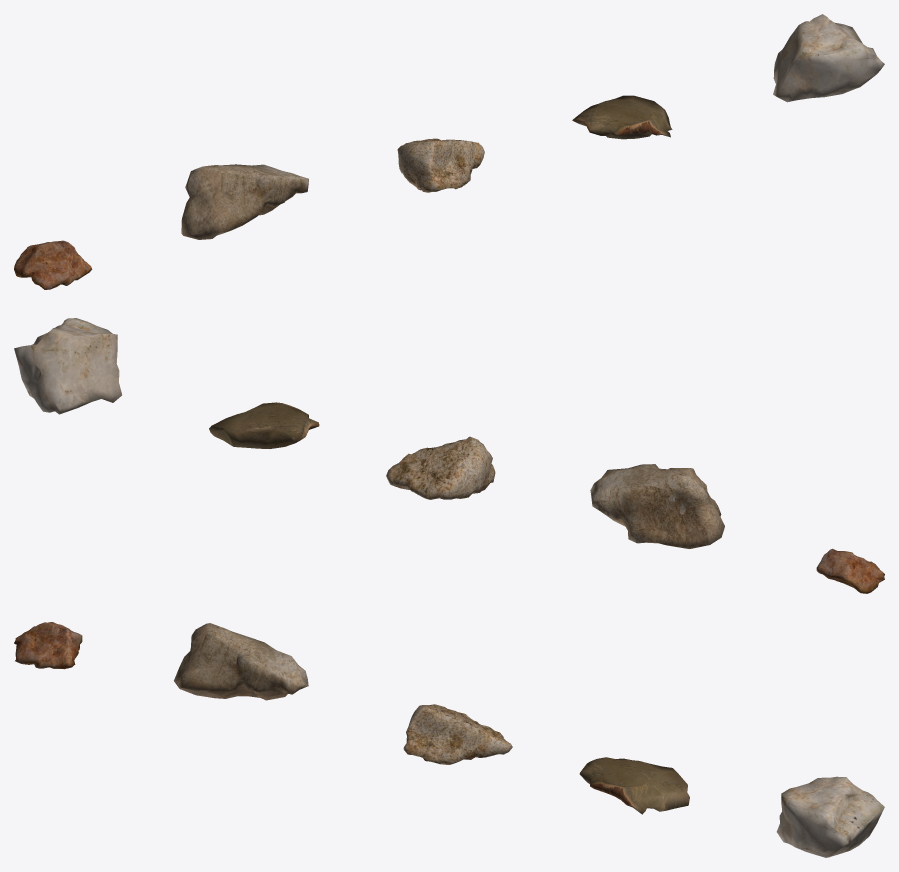
File: namaqualand_stones_01.glb
3 views of the same model, one above another, from view 1: azimuth 30°, elevation 25°; view 2: azimuth 150°, elevation 25°; view 3: azimuth 330°, elevation 25° (orthographic).
Parts seen in each view (by area): view 1: namaqualand_stones_01_e, namaqualand_stones_01_b, namaqualand_stones_01_c, namaqualand_stones_01_d, namaqualand_stones_01_a; view 2: namaqualand_stones_01_b, namaqualand_stones_01_e, namaqualand_stones_01_c, namaqualand_stones_01_d, namaqualand_stones_01_a; view 3: namaqualand_stones_01_b, namaqualand_stones_01_e, namaqualand_stones_01_c, namaqualand_stones_01_d, namaqualand_stones_01_a.
Boxes of the visible parts, left/top/right/bottom form: namaqualand_stones_01_e: left=773, top=14, right=884, bottom=102; namaqualand_stones_01_b: left=181, top=164, right=308, bottom=239; namaqualand_stones_01_c: left=397, top=138, right=484, bottom=192; namaqualand_stones_01_d: left=572, top=95, right=672, bottom=139; namaqualand_stones_01_a: left=14, top=240, right=92, bottom=289; namaqualand_stones_01_b: left=590, top=464, right=724, bottom=548; namaqualand_stones_01_e: left=14, top=318, right=121, bottom=414; namaqualand_stones_01_c: left=386, top=436, right=495, bottom=499; namaqualand_stones_01_d: left=209, top=402, right=319, bottom=448; namaqualand_stones_01_a: left=816, top=548, right=884, bottom=593; namaqualand_stones_01_b: left=174, top=623, right=308, bottom=700; namaqualand_stones_01_e: left=776, top=776, right=884, bottom=857; namaqualand_stones_01_c: left=403, top=704, right=512, bottom=764; namaqualand_stones_01_d: left=579, top=757, right=689, bottom=814; namaqualand_stones_01_a: left=14, top=622, right=82, bottom=669.
Bounding box in the file's own units: 1.02 × 0.0829 × 0.1116.
Materials: 1 (1 with a texture image).
